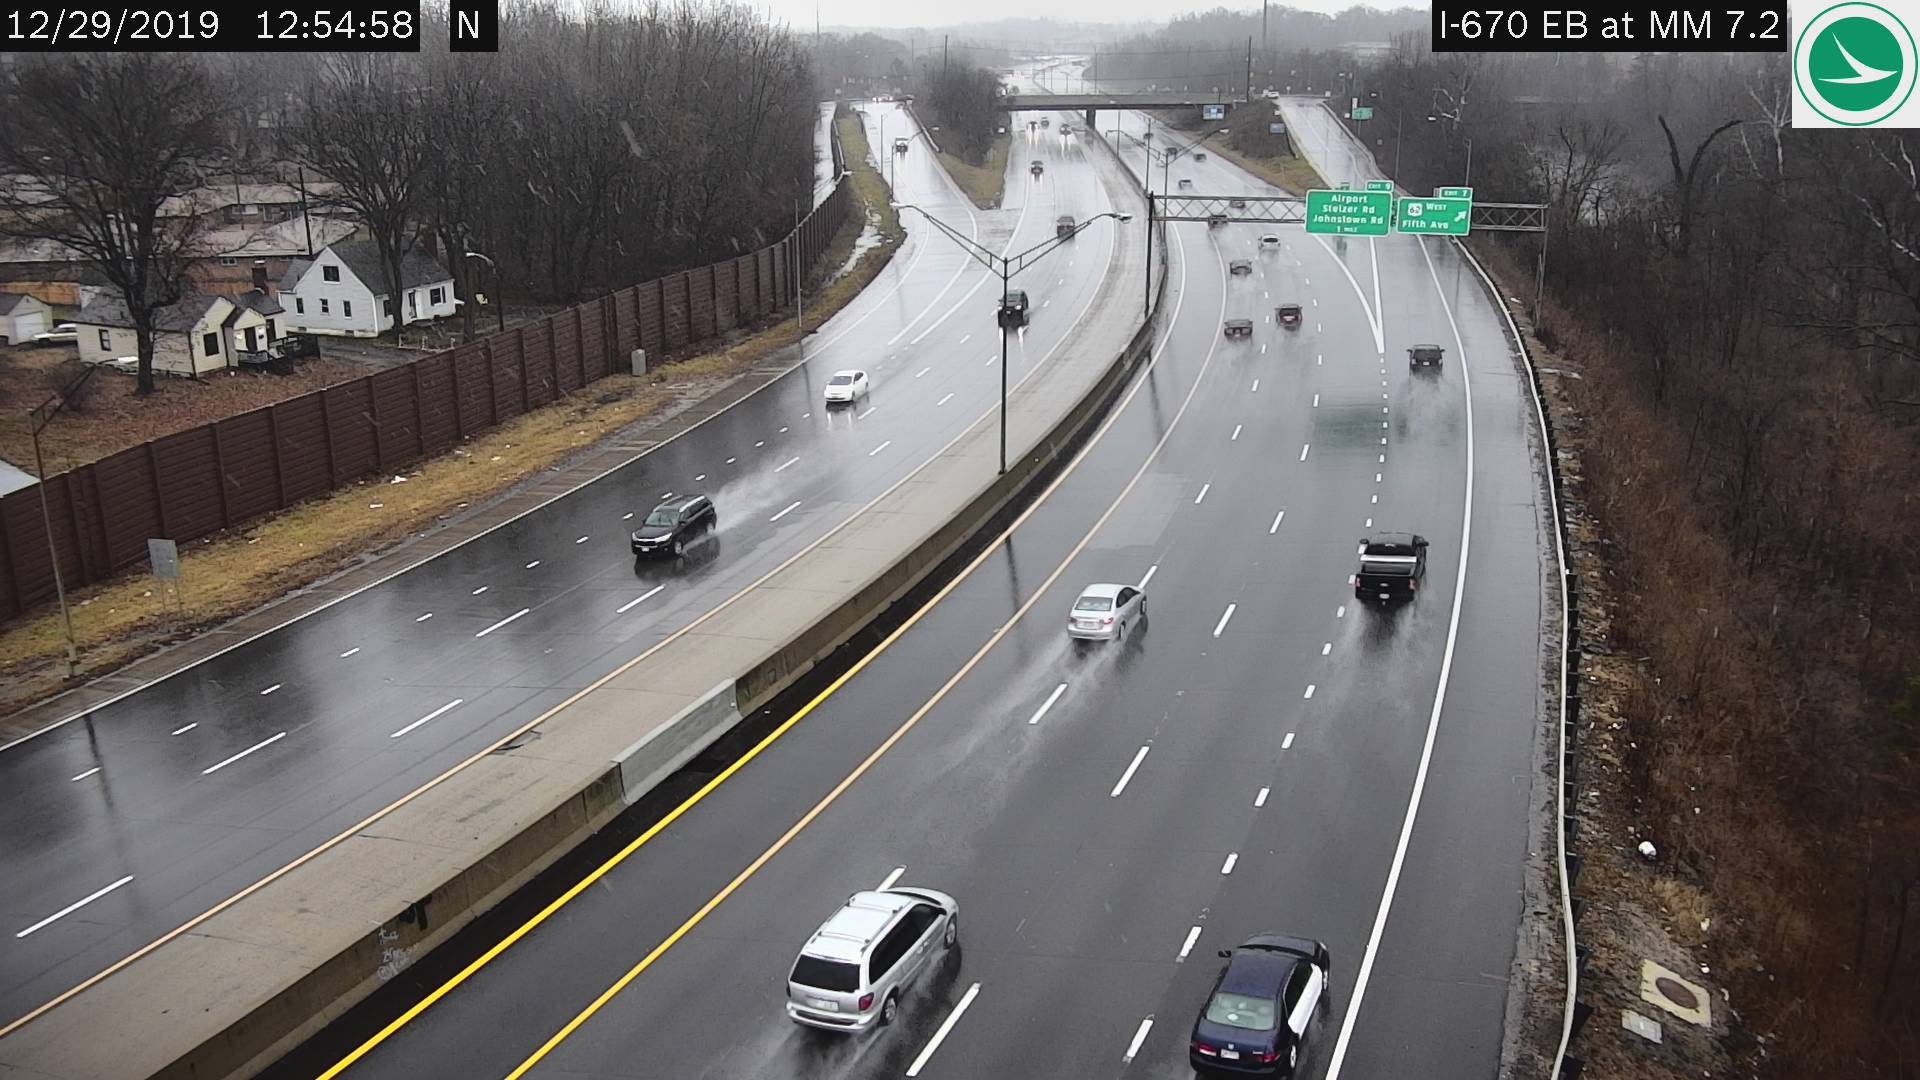car: (786, 884, 957, 1029), (1189, 932, 1331, 1068), (626, 496, 717, 564), (1069, 580, 1150, 640), (1354, 531, 1422, 600), (822, 368, 874, 407), (994, 287, 1030, 328), (1410, 340, 1447, 368), (1222, 316, 1250, 336), (1054, 212, 1073, 240), (1278, 305, 1298, 328), (1230, 260, 1250, 280), (1258, 232, 1278, 252)
